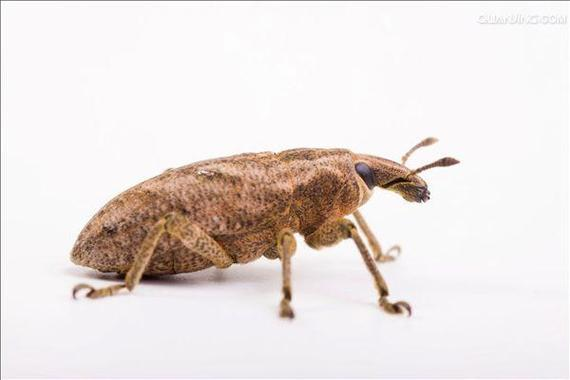Curculionidae: (68, 135, 460, 319)
